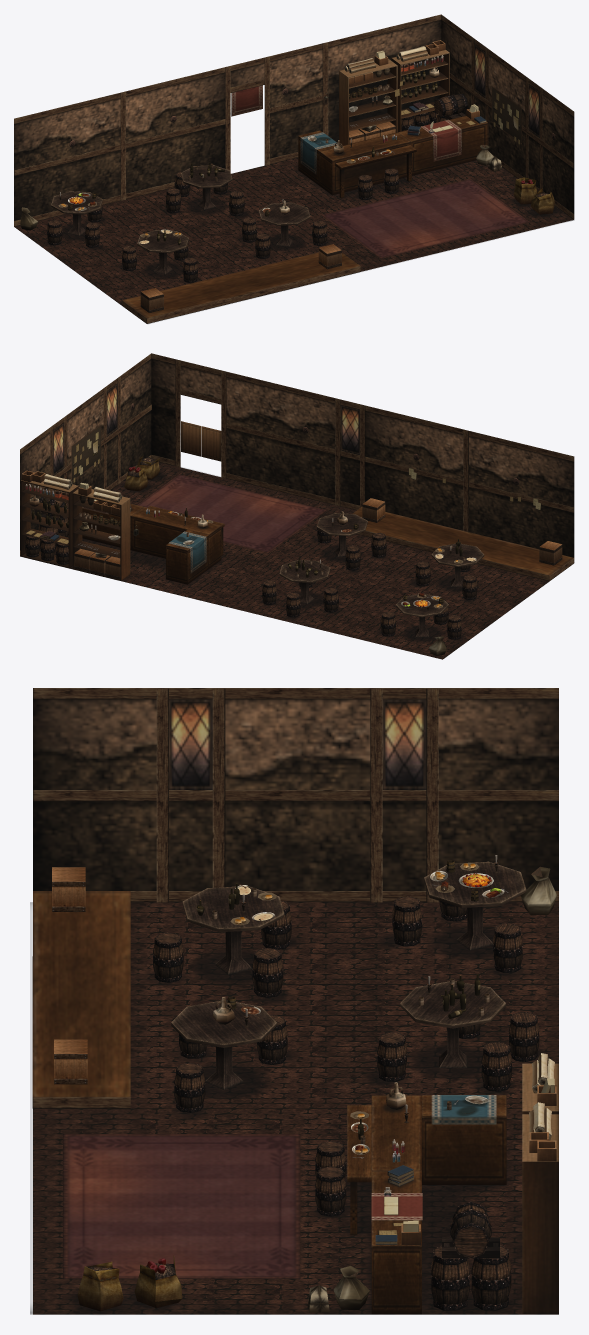
File: old_pub_low_poly.glb
3 views of the same model, one above another, from view 1: azimuth 30°, elevation 25°; view 2: azimuth 150°, elevation 25°; view 3: azimuth 270°, elevation 25° (orthographic). The views are drawn at different scales.
Visible parts, largest first — view 1: FrontSide_0, FrontSide_1; view 2: FrontSide_0, FrontSide_1; view 3: FrontSide_0, FrontSide_1.
Boxes of the visible parts, box(x1,y1,x2,y2) form: FrontSide_0: box(14, 14, 574, 323); FrontSide_1: box(14, 157, 573, 305); FrontSide_0: box(20, 353, 574, 658); FrontSide_1: box(20, 462, 549, 659); FrontSide_0: box(30, 688, 558, 1314); FrontSide_1: box(33, 902, 558, 1314).
Size of what is drawn, in the model's own units: 159 by 38.15 by 84.75.
2 materials, 2 textured.
